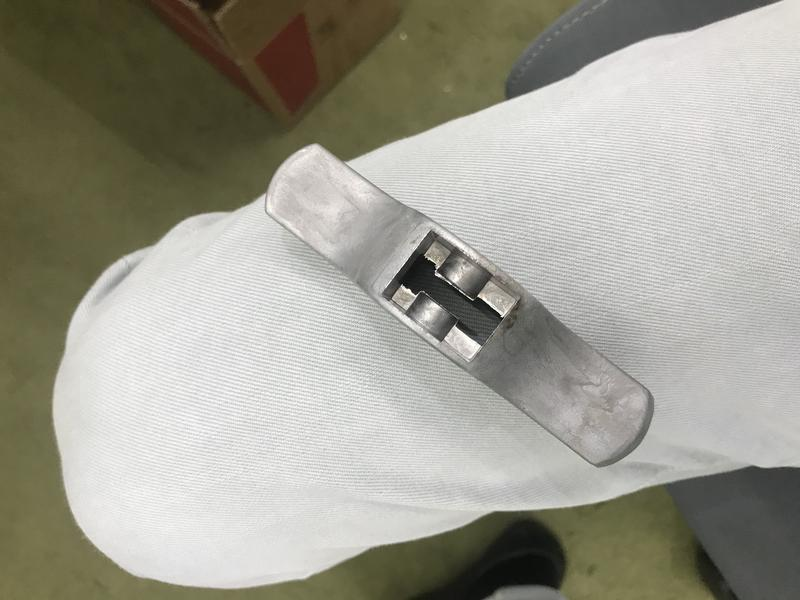zapchast: (255, 131, 662, 484)
